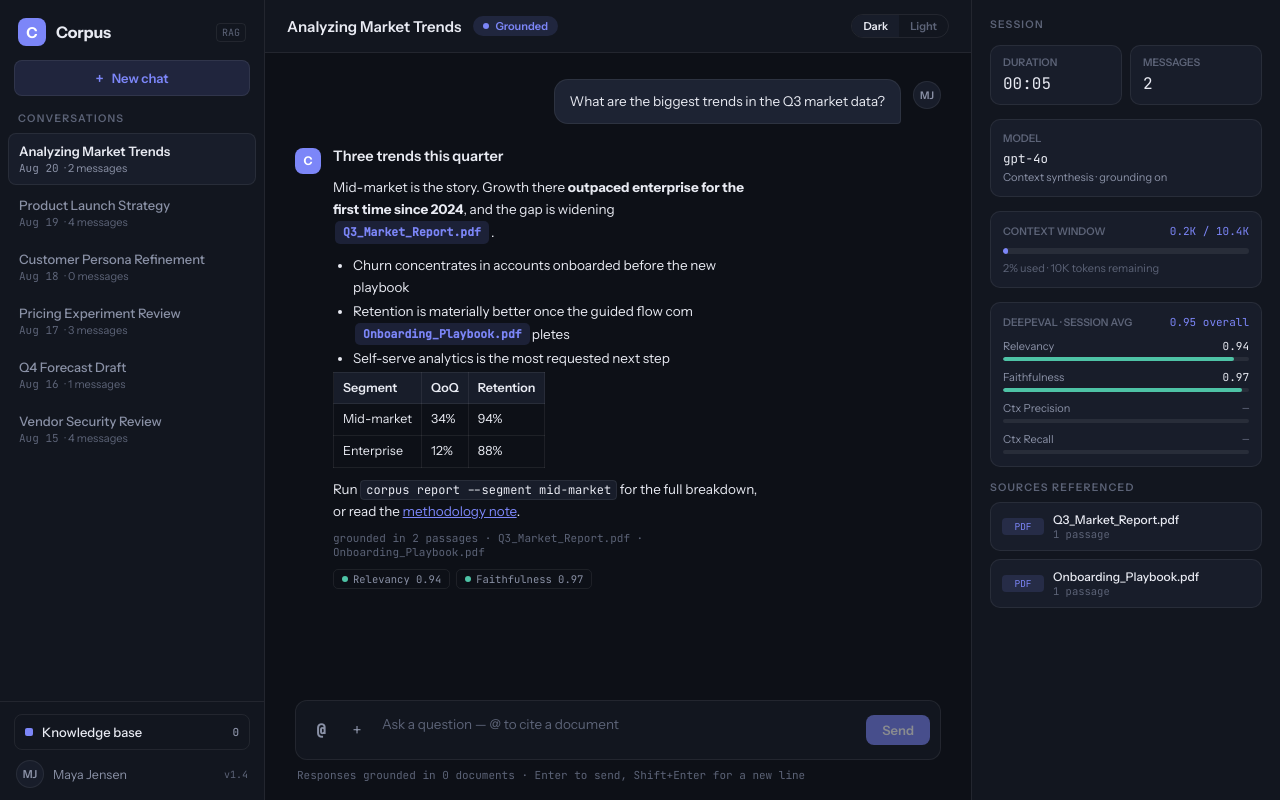
§4.6 stats panel wiring (T-507) › keeps FR-ANL-01’s duration session-scoped across a chat switch (R-14)
Click the button "Product Launch Strategy Aug 19 · 4 messages" at (132, 213), box [8,187,256,239]
Wait 3000 ms
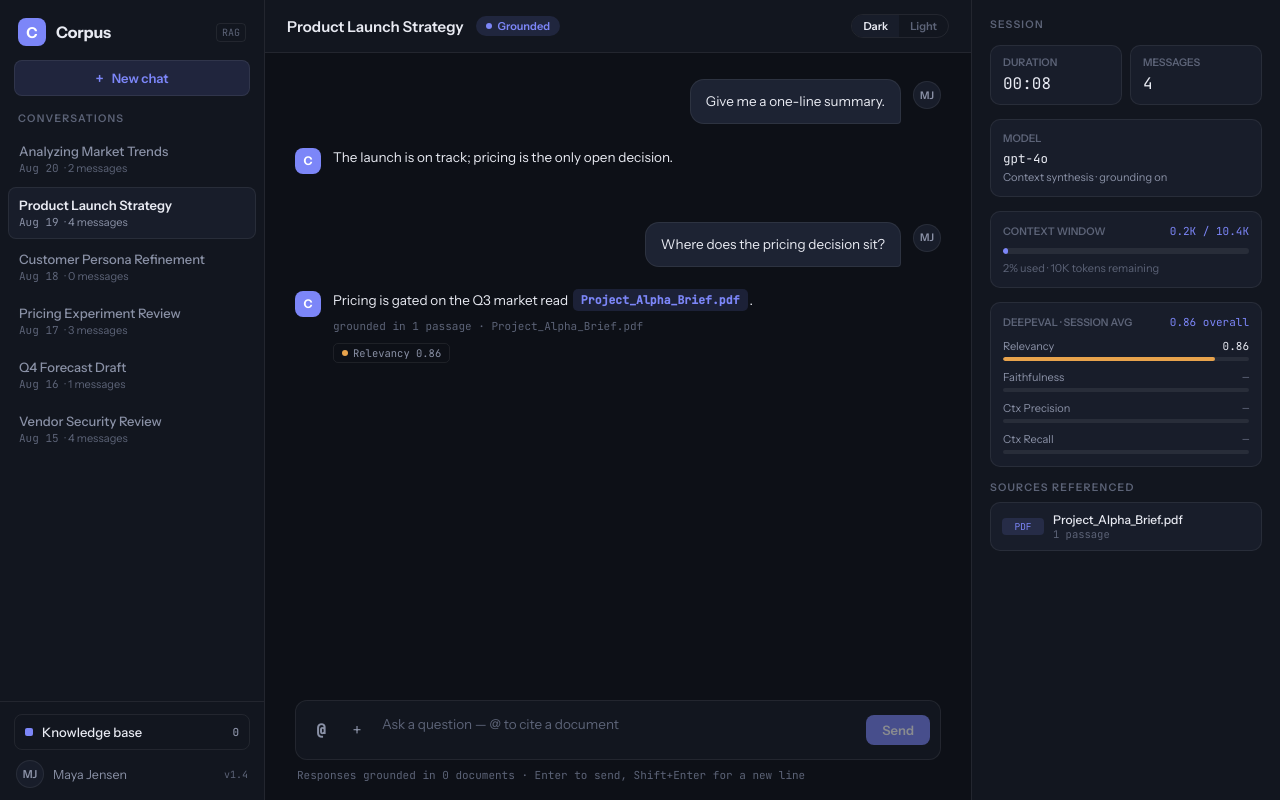
Now the text "00:08" is shown, box [1003,73,1051,94]
